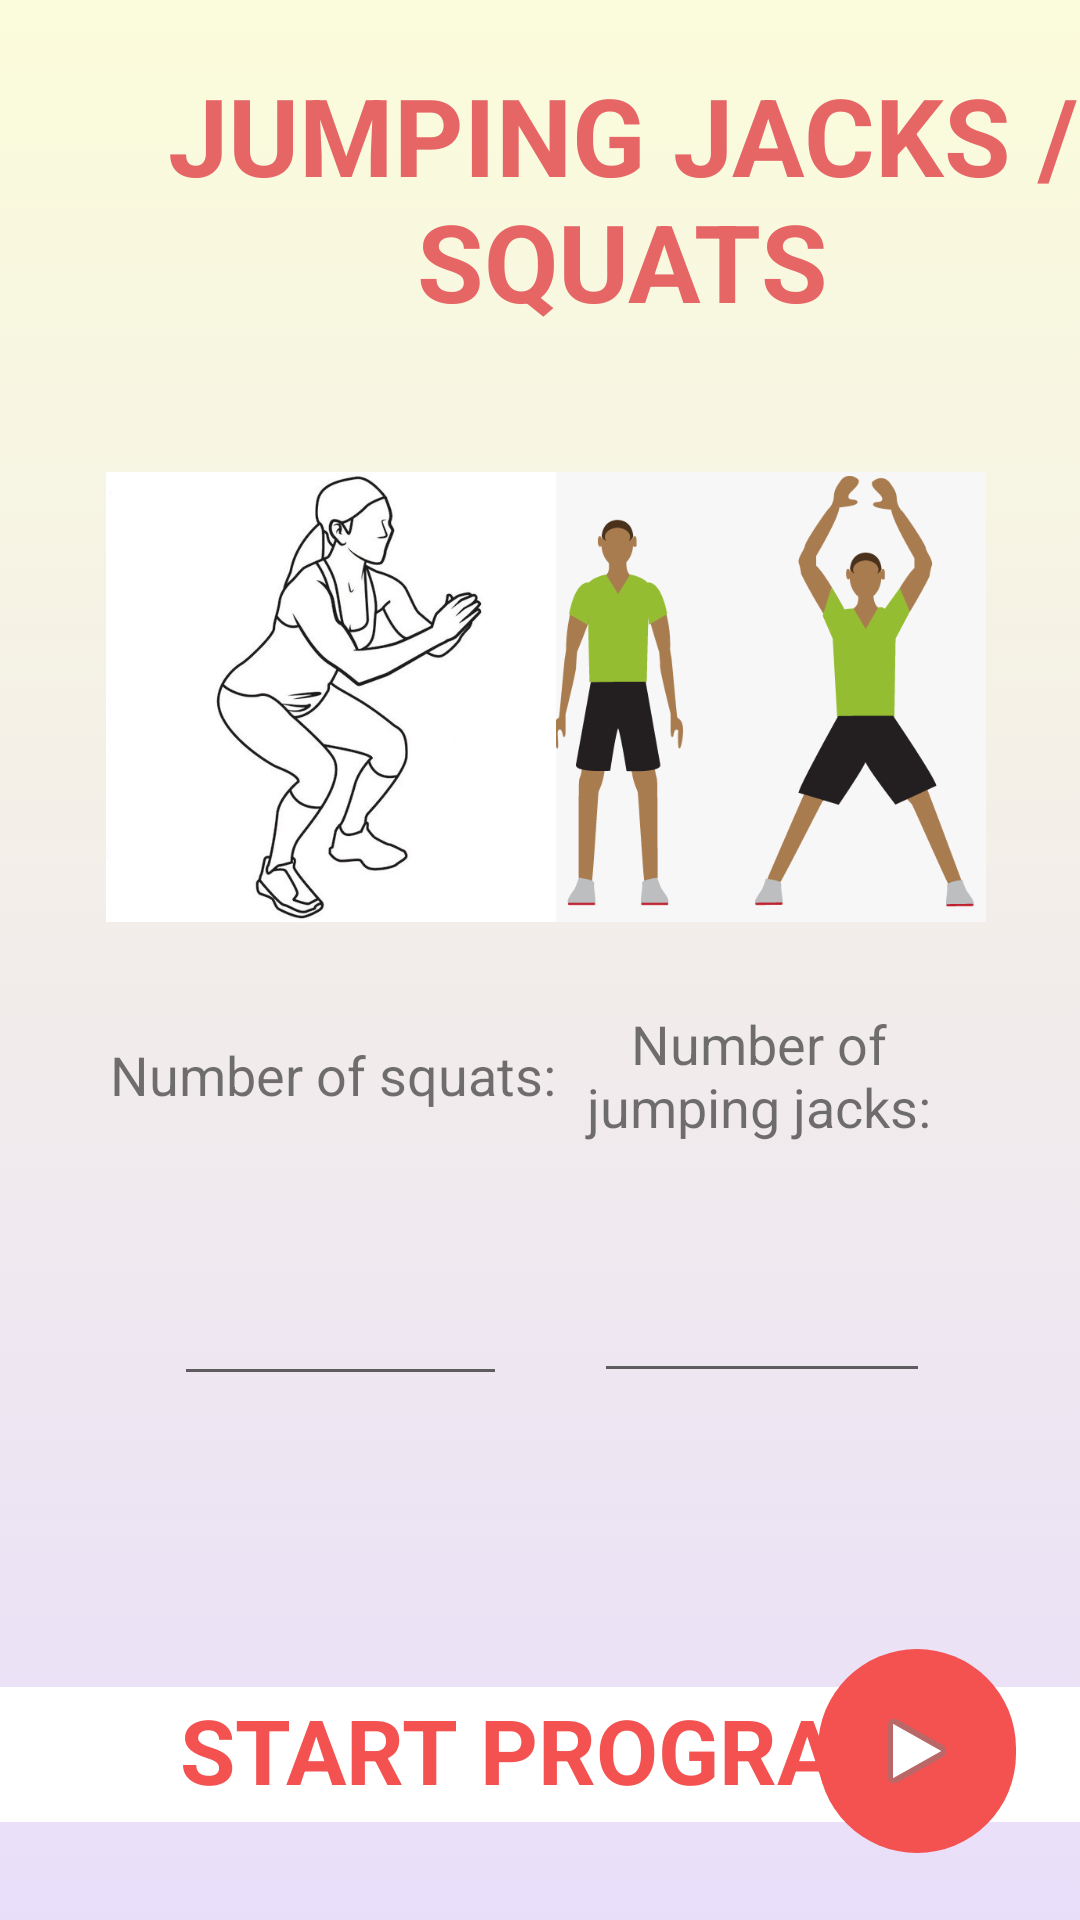

Where to tap for icons on this 1080*1920 app screen, as (x=x, y=y):
play: (x=917, y=1751)
